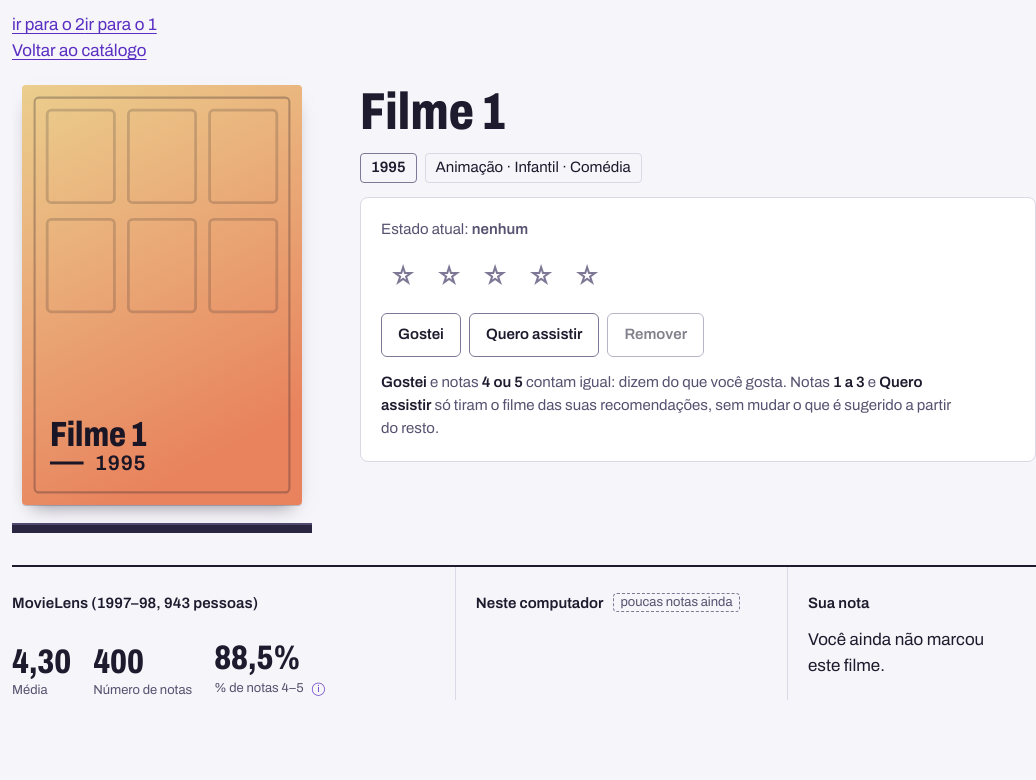
Test case: DetalheFilme: "Neste computador" depois de uma escrita › de 4 para 5 notas: o painel abre e some "poucas notas ainda"
expect the heading "Filme 1" is shown: met, box x1=360 y1=83 x2=506 y2=140
expect the element with class "estatistica-computador" shows "poucas notas ainda": met, box x1=620 y1=595 x2=733 y2=609
Click the radio button named "4 de 5 estrelas". click: (541, 277)
box: x1=519 y1=255 x2=563 y2=299
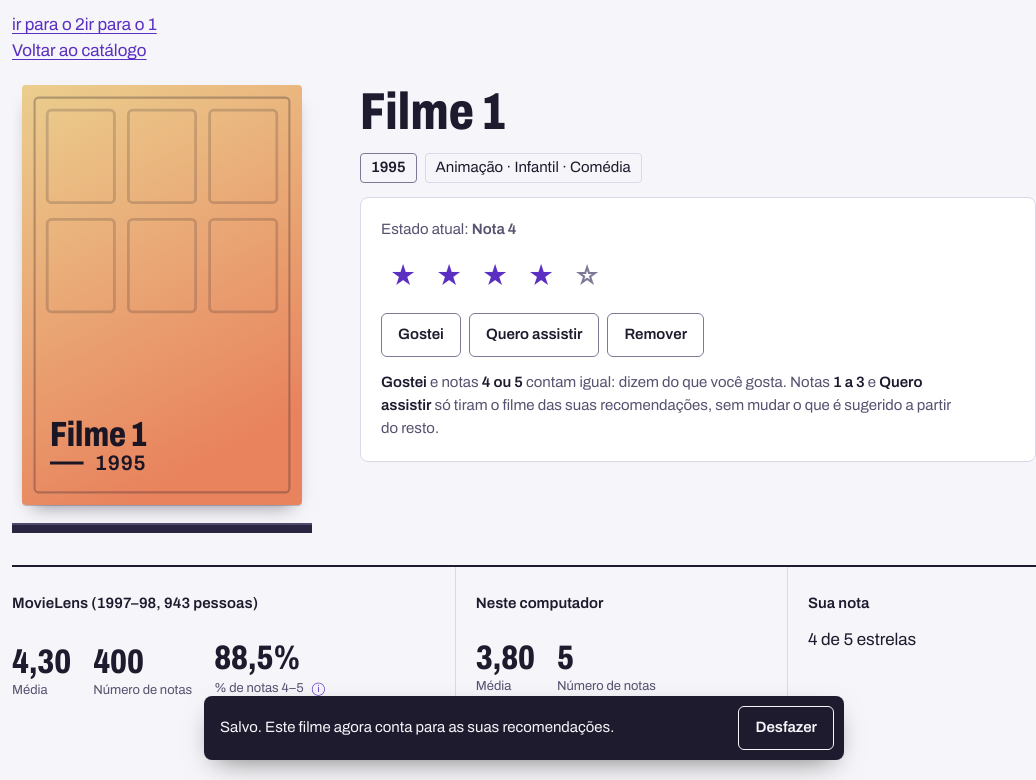
expect the text with class "estatistica-computador" no longer shows "poucas notas ainda": met
